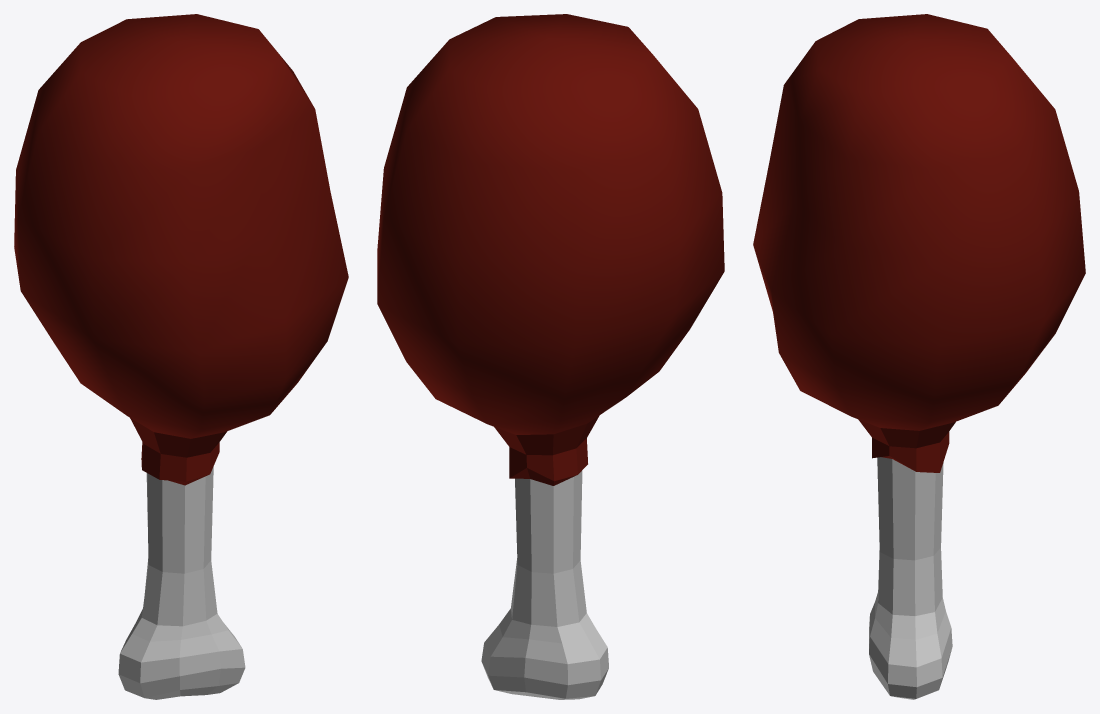
File: meat.FBX
3 renders of one model, left to right at view 1: azimuth 30°, elevation 25°; view 2: azimuth 150°, elevation 25°; view 3: azimuth 270°, elevation 25°, orthographic. The views are drawn at different scales.
Visible parts, largest first — view 1: Sphere002; view 2: Sphere002; view 3: Sphere002.
Boxes of the visible parts, x1=… form: Sphere002: x1=14, y1=14, x2=348, y2=699; Sphere002: x1=377, y1=14, x2=724, y2=699; Sphere002: x1=753, y1=14, x2=1085, y2=699.
Size of the model in its own units: 129 by 270 by 127.
